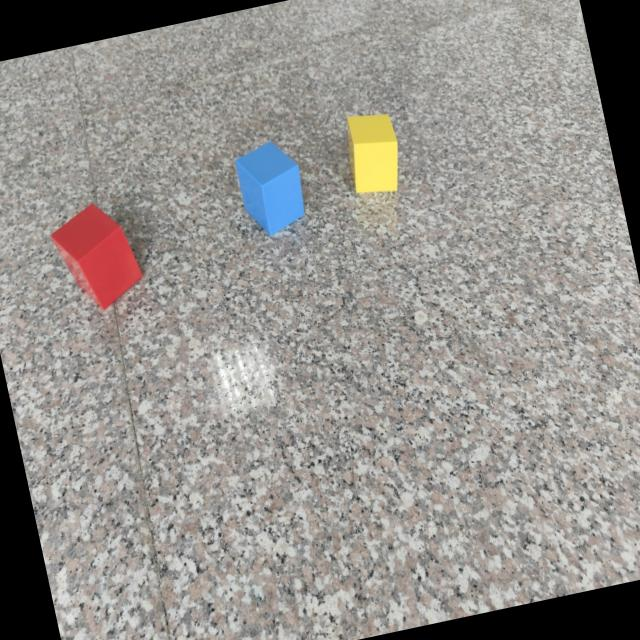blue: (234, 142, 305, 237)
red: (50, 204, 143, 310)
yellow: (346, 113, 399, 196)
